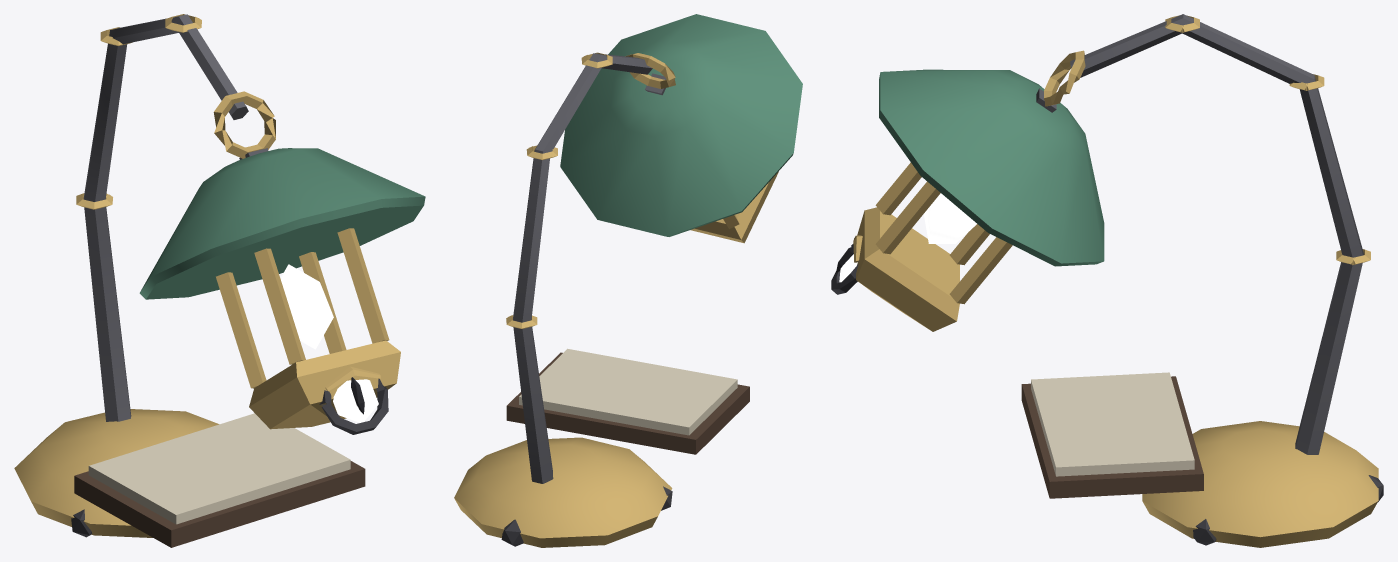
File: lantern-readers-lamp.glb
The picture shows the model from 3 angles, left to right: view 1: azimuth 30°, elevation 25°; view 2: azimuth 150°, elevation 25°; view 3: azimuth 270°, elevation 25°; orthographic projection. The views are drawn at different scales.
Visible parts, largest first — view 1: lantern_readers_lamp; view 2: lantern_readers_lamp; view 3: lantern_readers_lamp.
Boxes of the visible parts, <box> form: lantern_readers_lamp: <box>14,14,425,547</box>; lantern_readers_lamp: <box>454,14,802,547</box>; lantern_readers_lamp: <box>831,14,1383,547</box>.
Size of the model in its own units: 0.3973 by 0.7315 by 0.7476.
